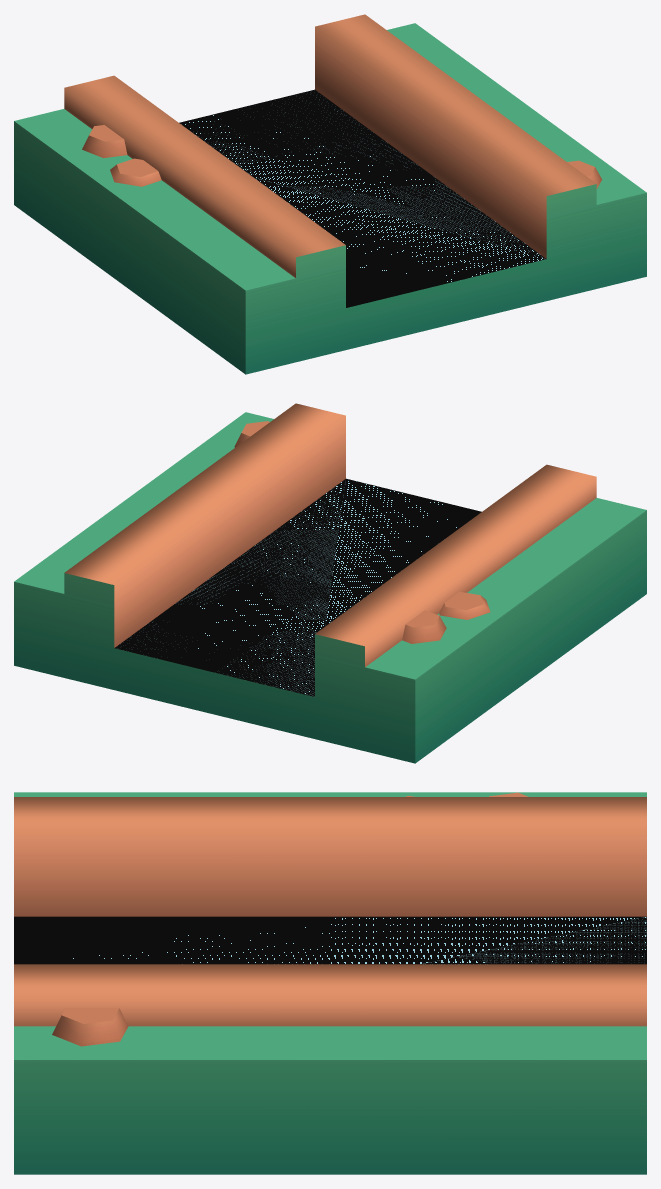
Rendered from kenney-tower-defense-tile-river-straight.glb.
3 views of the same model, one above another, from view 1: azimuth 30°, elevation 25°; view 2: azimuth 150°, elevation 25°; view 3: azimuth 270°, elevation 25° (orthographic). The views are drawn at different scales.
Visible parts, largest first — view 1: tile-river-straight; view 2: tile-river-straight; view 3: tile-river-straight.
Part boxes in pixels (x1,y1,x2,y2): tile-river-straight: (14, 14, 646, 374); tile-river-straight: (14, 403, 646, 763); tile-river-straight: (14, 792, 646, 1174).
Bounding box in the file's own units: 1 × 0.25 × 1.
Materials: 1 (1 with a texture image).
